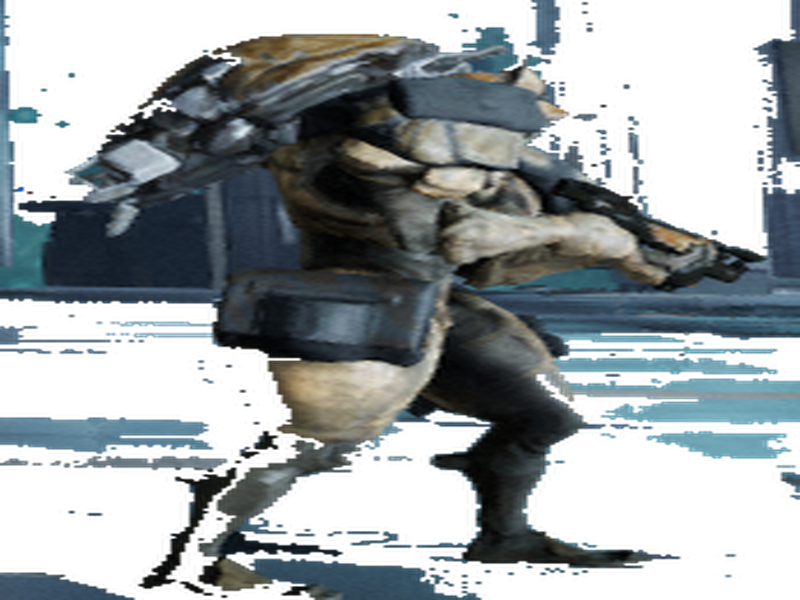grineer: (53, 21, 767, 600)
